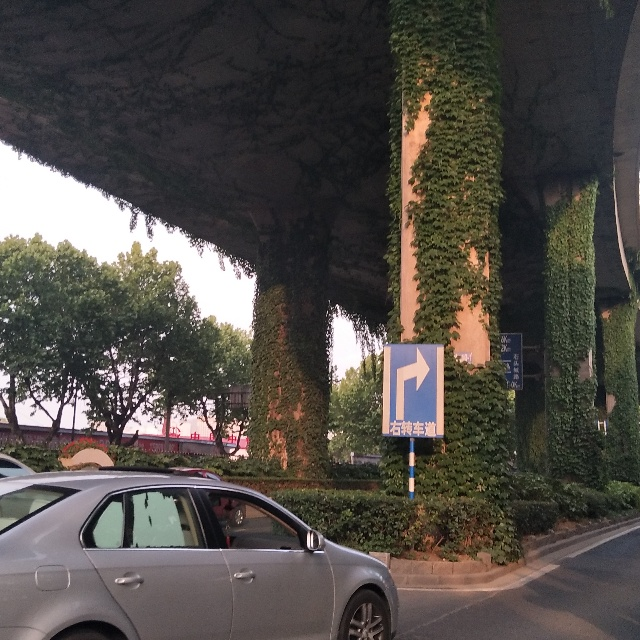right: (391, 349, 438, 432)
